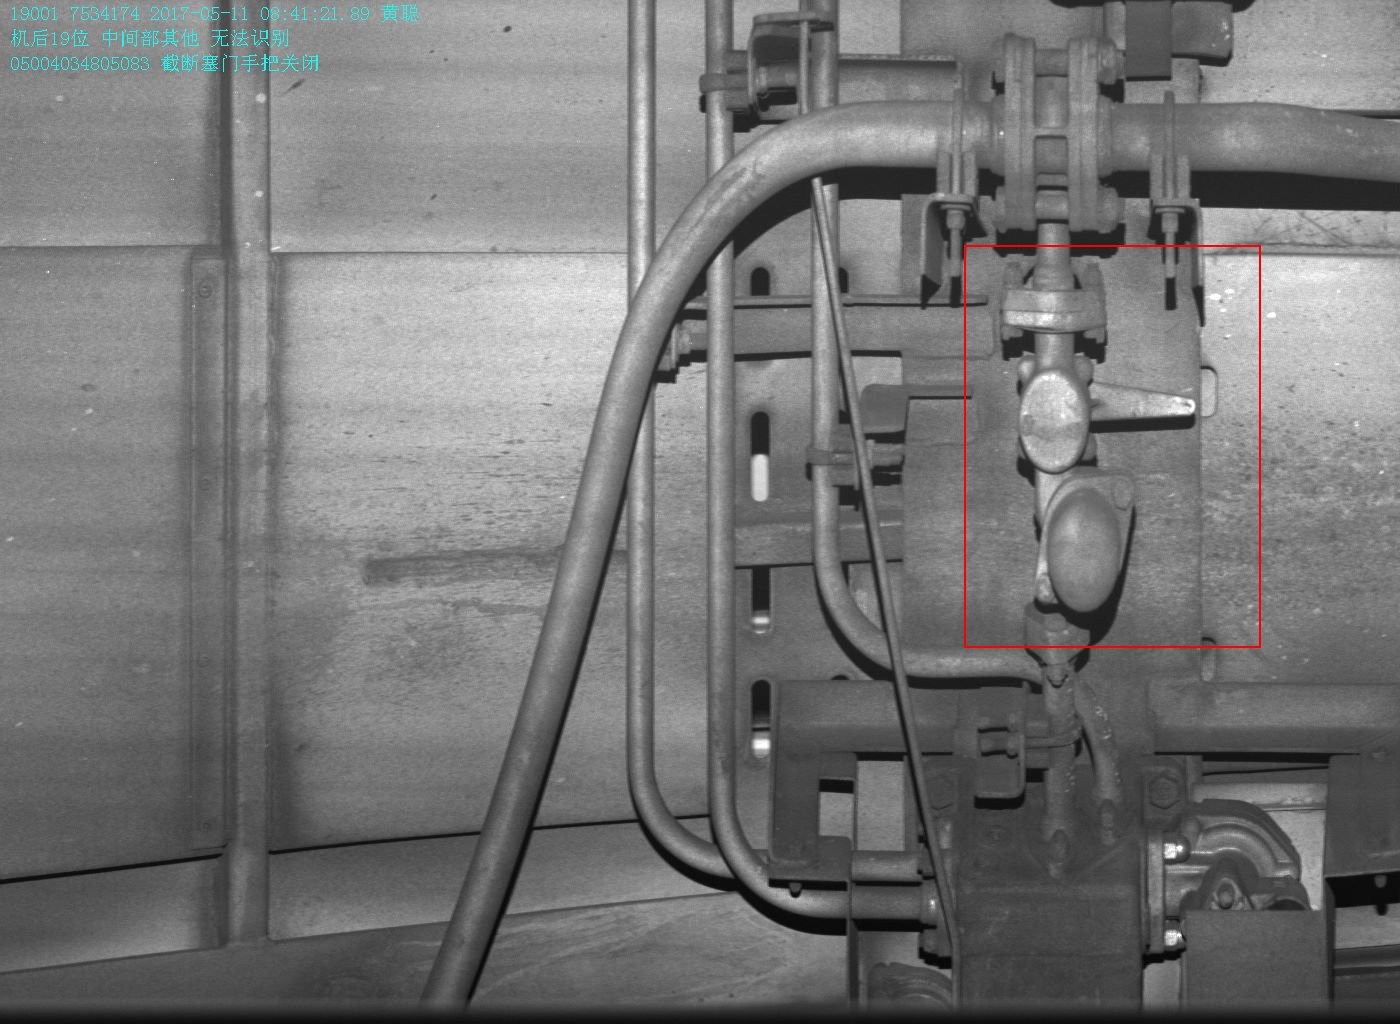truncated plug door handle: (1016, 355, 1199, 474)
